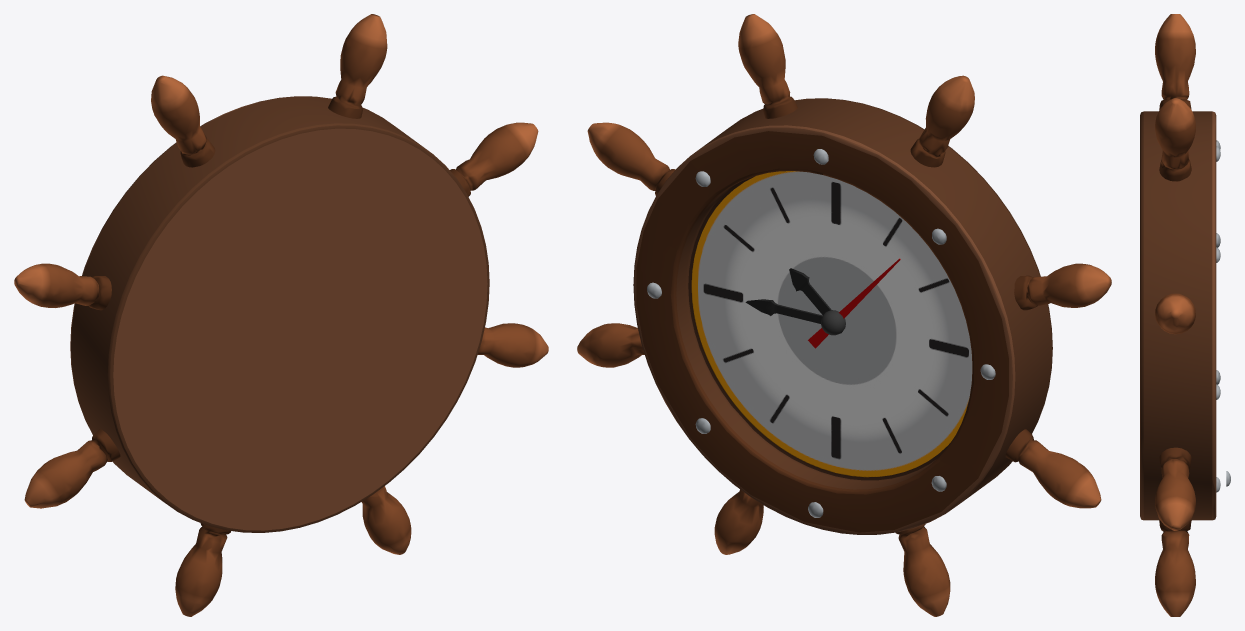
Rendered from Clock Steering.fbx.
3 views of the same model, side by side, from view 1: azimuth 30°, elevation 25°; view 2: azimuth 150°, elevation 25°; view 3: azimuth 270°, elevation 25° (orthographic). The views are drawn at different scales.
Visible parts, largest first — view 1: Clock_Steering; view 2: Clock_Steering; view 3: Clock_Steering.
Boxes of the visible parts, x1=… form: Clock_Steering: x1=14, y1=14, x2=548, y2=616; Clock_Steering: x1=577, y1=14, x2=1111, y2=616; Clock_Steering: x1=1140, y1=14, x2=1230, y2=616.
Bounding box in the file's own units: 127 × 127 × 20.18.
